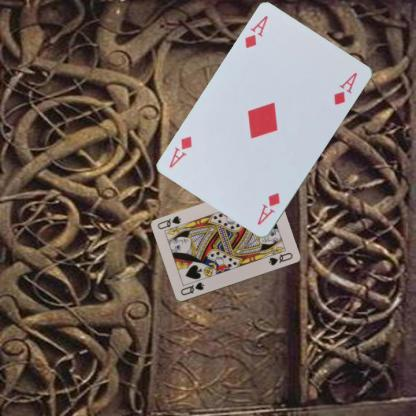Ad: (242, 12, 269, 50), (255, 190, 281, 227)
Qs: (178, 280, 205, 297)
